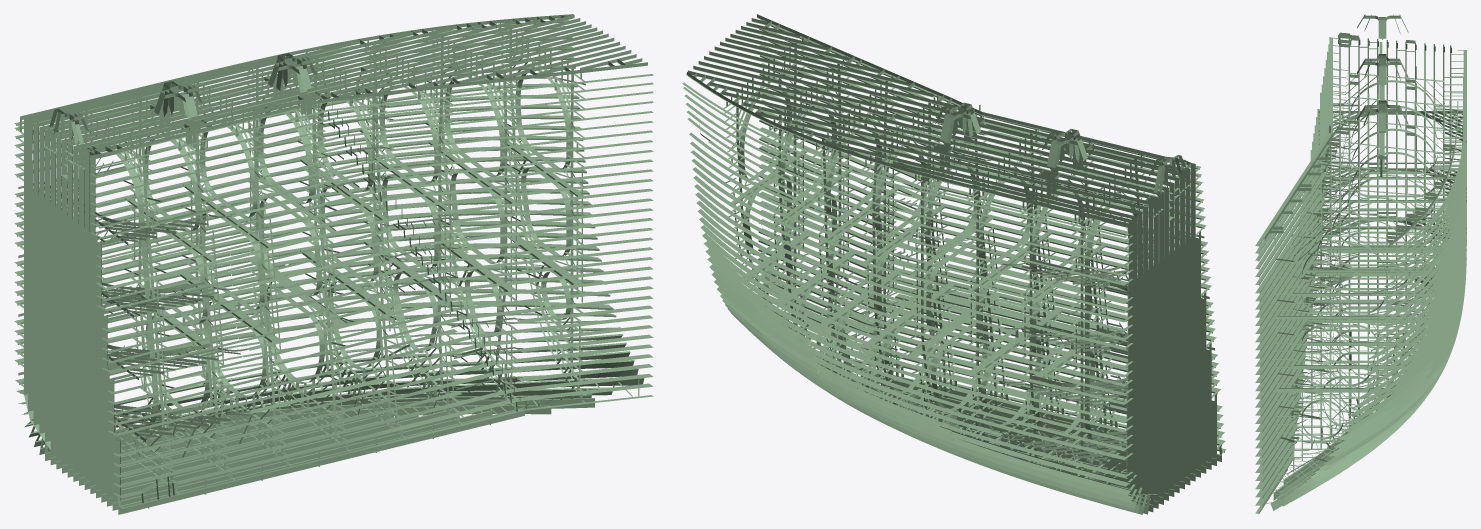
File: NO_1_WING_CARGO_OIL_TK_PS.glb
3 views of the same model, side by side, from view 1: azimuth 30°, elevation 25°; view 2: azimuth 150°, elevation 25°; view 3: azimuth 270°, elevation 25° (orthographic). The views are drawn at different scales.
Size of the model in its own units: 47.26 by 31.5 by 20.2.
